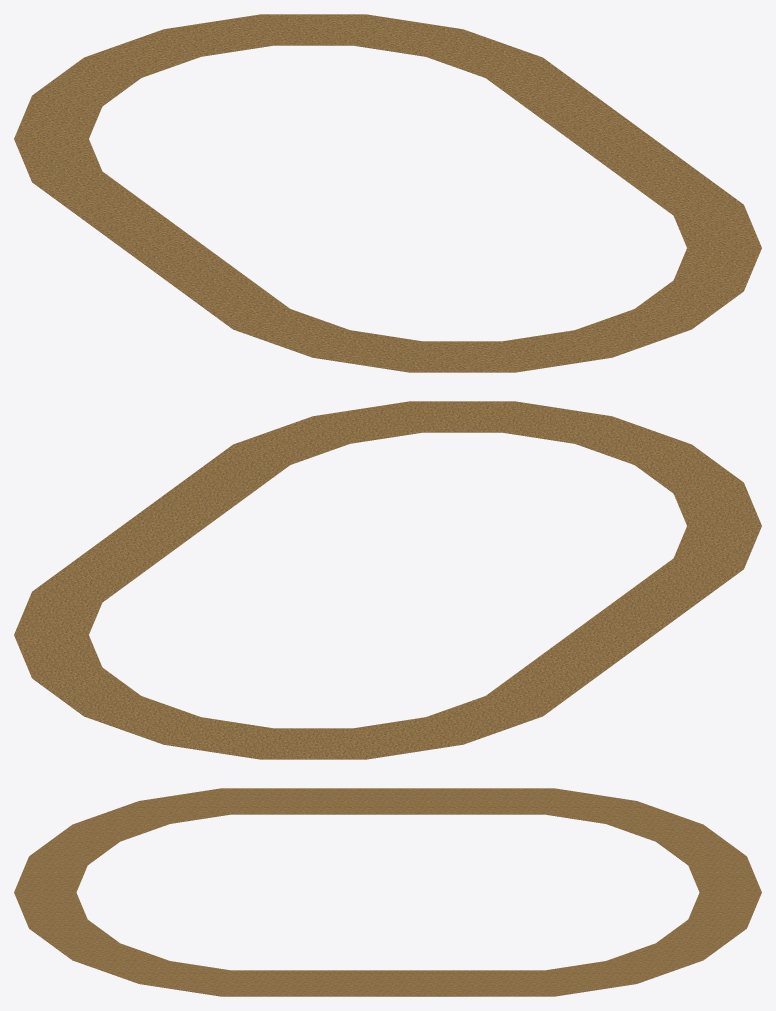
File: groundPlane.obj
The picture shows the model from 3 angles, top to bottom: view 1: azimuth 30°, elevation 25°; view 2: azimuth 150°, elevation 25°; view 3: azimuth 270°, elevation 25°; orthographic projection. The views are drawn at different scales.
Parts seen in each view (by area): view 1: Tube002; view 2: Tube002; view 3: Tube002.
Boxes of the visible parts, x1=… form: Tube002: x1=14, y1=14, x2=761, y2=372; Tube002: x1=14, y1=401, x2=761, y2=759; Tube002: x1=14, y1=788, x2=761, y2=996.
Size of what is drawn, in the model's own units: 1576 by 0.5 by 2396.
